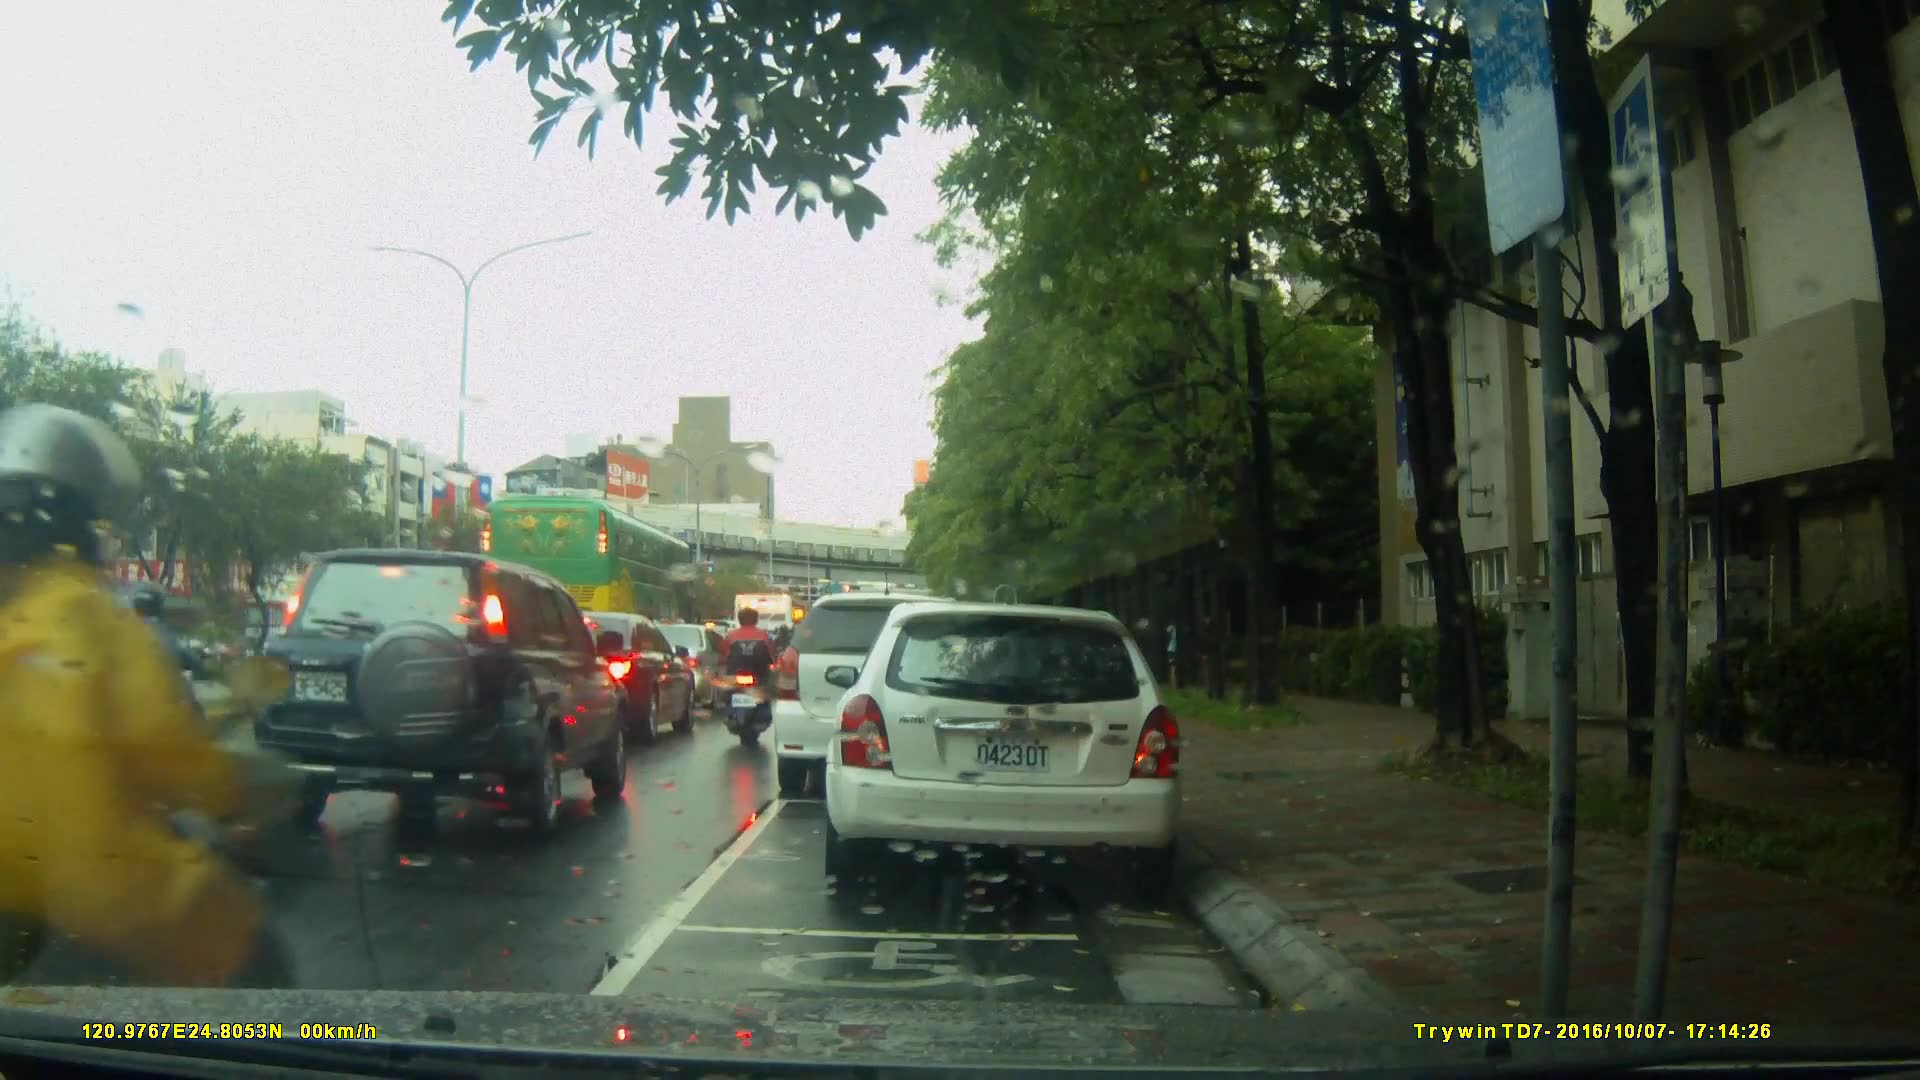rider: (1, 415, 315, 1061), (720, 612, 778, 745)
vehicle: (831, 592, 1196, 897), (265, 546, 619, 830), (770, 592, 999, 801), (474, 493, 716, 659), (503, 609, 702, 749), (1, 613, 220, 709), (22, 576, 164, 684), (631, 622, 747, 717)
